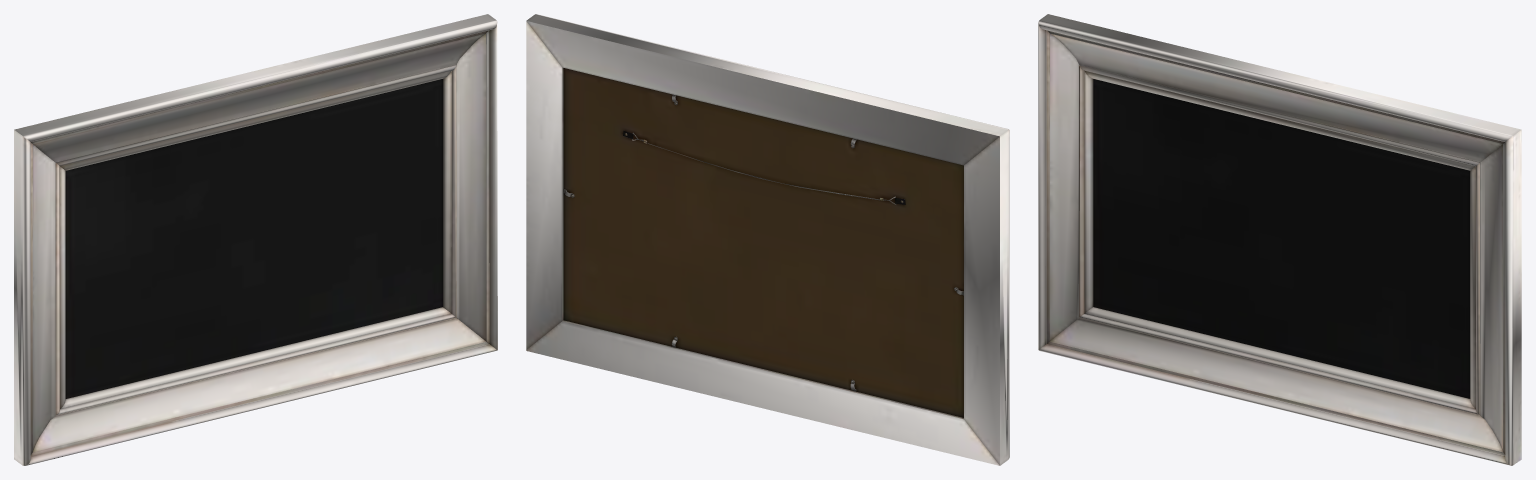
Rendered from photo.glb.
3 views of the same model, side by side, from view 1: azimuth 30°, elevation 25°; view 2: azimuth 150°, elevation 25°; view 3: azimuth 330°, elevation 25° (orthographic).
Visible parts, largest first — view 1: hanging_picture_frame_02; view 2: hanging_picture_frame_02; view 3: hanging_picture_frame_02.
Part boxes in pixels (bbox=[...]): hanging_picture_frame_02: bbox=[14, 14, 497, 465]; hanging_picture_frame_02: bbox=[526, 14, 1009, 465]; hanging_picture_frame_02: bbox=[1038, 14, 1521, 465].
Size of the model in its own units: 0.7512 by 0.4995 by 0.0326.
Materials: 3 (3 with a texture image).
